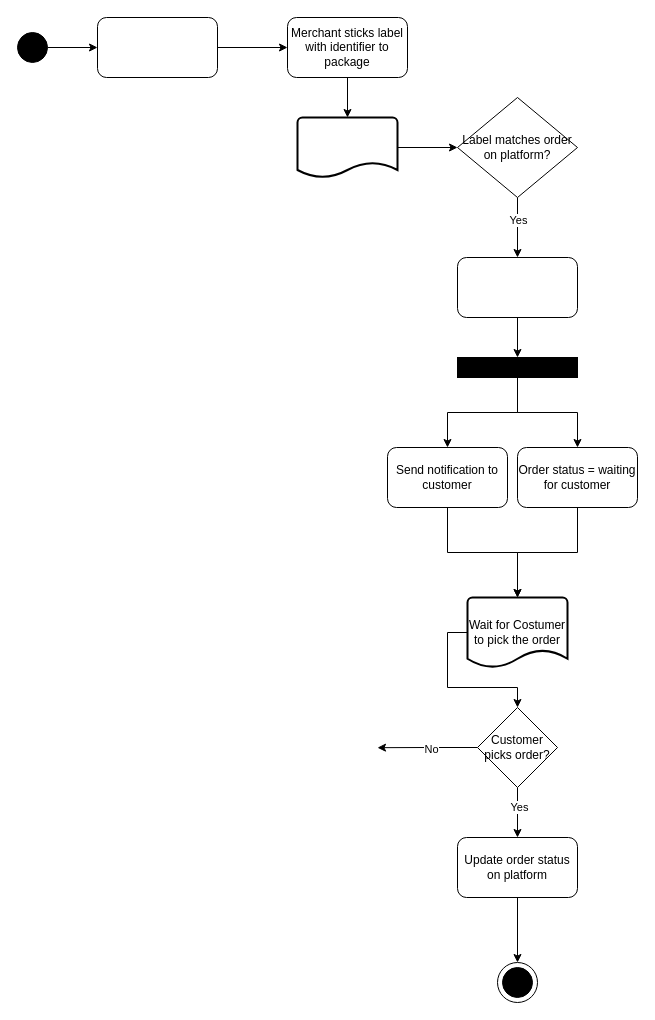
Some shapes in this 655 by 1020 pixel diagram are drawn without their labels. The shapes that lost their labels are listed below. From the top down, each one's centre as x and y in pixels, then its label:
pixel 157 47: Merchant packs order
pixel 347 147: Wait for order to arrive
pixel 517 287: Pickup Store owner registers order delivery on platform
